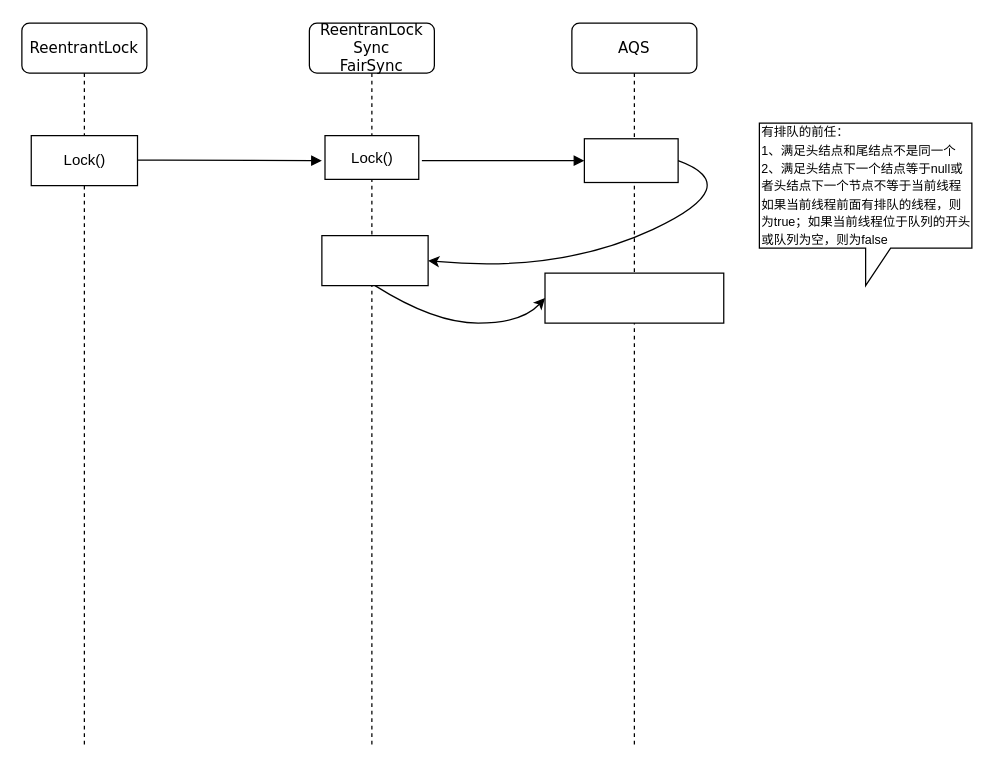
This 994x770 diagram has some shape labels left out. Each missing label, with the centre of its shape:
acquire(1): the point at 630,160
hasQueuedPredecessor(): the point at 634,297
tryAcquire(): the point at 374,260
